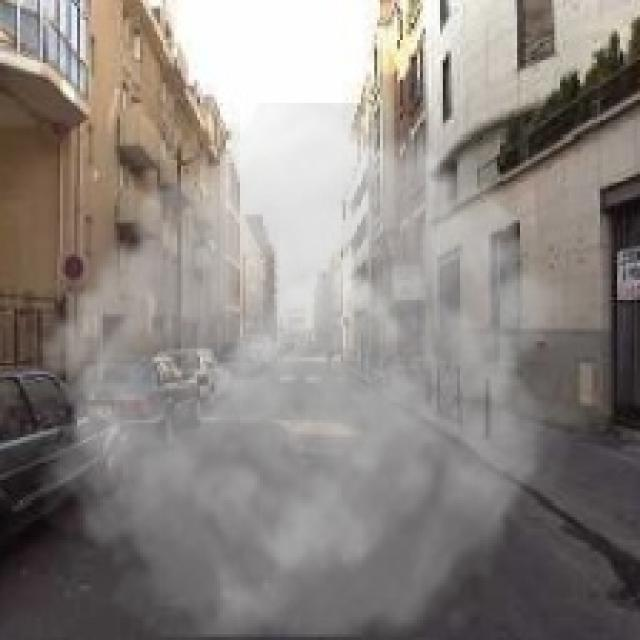Smoke: (17, 102, 586, 638)
